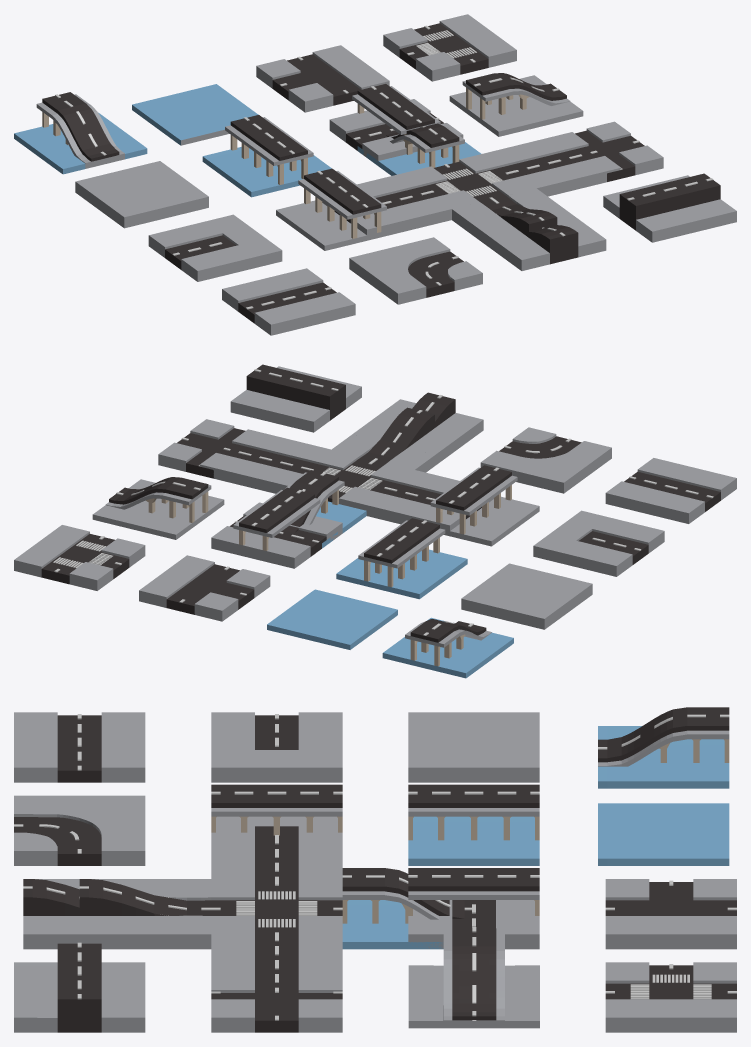
The model's file is Streets_all.glb.
3 renders of one model, top to bottom at view 1: azimuth 30°, elevation 25°; view 2: azimuth 150°, elevation 25°; view 3: azimuth 270°, elevation 25°, orthographic. The views are drawn at different scales.
Visible parts, largest first — view 1: Street_Ramp_Water.001, Street_Elevated, Street_Bridge_Water, Street_Deadend, Street_Empty, Street_Curve, Street_Straight, Street_3Way, Street_Bridge, Street_Ramp_Bridge.001, Street_3Way_2, Street_Bridge_Underpass (+8 smaller); view 2: Street_Bridge_Underpass, Street_Bridge_Water, Street_Elevated, Street_Empty, Street_Deadend, Street_Straight, Street_3Way_2, Street_3Way, Street_Ramp_Bridge.001, Street_Bridge, Street_Curve, Street_Ramp_Water.001 (+8 smaller); view 3: Street_Bridge_Water, Street_Ramp_Bridge.001, Street_Elevated, Street_Ramp_Water.001, Street_Empty, Street_Curve, Street_3Way_2, Street_3Way, Street_Straight, Street_Deadend, Street_RampElevated.001, Street_Bridge_Underpass (+8 smaller).
Part boxes in pixels (box(x1,y1,x2,y2)): Street_Ramp_Water.001: box(14, 92, 147, 174); Street_Elevated: box(603, 173, 736, 242); Street_Bridge_Water: box(202, 115, 331, 197); Street_Deadend: box(148, 214, 282, 281); Street_Empty: box(75, 161, 208, 228); Street_Curve: box(349, 237, 482, 304); Street_Straight: box(222, 268, 355, 335); Street_3Way: box(383, 14, 516, 81); Street_Bridge: box(276, 168, 409, 250); Street_Ramp_Bridge.001: box(449, 73, 583, 136); Street_3Way_2: box(256, 45, 389, 112); Street_Bridge_Underpass: box(329, 84, 463, 163); Street_Bridge_Underpass: box(211, 487, 342, 568); Street_Bridge_Water: box(336, 518, 467, 599); Street_Elevated: box(230, 364, 361, 432); Street_Empty: box(461, 563, 592, 629); Street_Deadend: box(533, 510, 664, 576); Street_Straight: box(605, 458, 736, 523); Street_3Way_2: box(139, 555, 270, 621); Street_3Way: box(14, 525, 145, 590); Street_Ramp_Bridge.001: box(92, 477, 224, 539); Street_Bridge: box(430, 465, 539, 546); Street_Curve: box(480, 427, 611, 493); Street_Ramp_Water.001: box(382, 617, 513, 678); Street_Bridge_Water: box(408, 784, 539, 865); Street_Ramp_Bridge.001: box(408, 927, 539, 1028); Street_Elevated: box(14, 942, 145, 1032); Street_Ramp_Water.001: box(598, 707, 729, 788); Street_Empty: box(408, 712, 539, 782); Street_Curve: box(14, 795, 145, 865); Street_3Way_2: box(605, 879, 736, 949); Street_3Way: box(605, 962, 736, 1032); Street_Straight: box(14, 712, 145, 782); Street_Deadend: box(211, 712, 342, 782); Street_RampElevated.001: box(79, 879, 211, 949); Street_Bridge_Underpass: box(408, 868, 539, 949).
Bounding box in the file's own units: 11 × 0.768 × 11.
